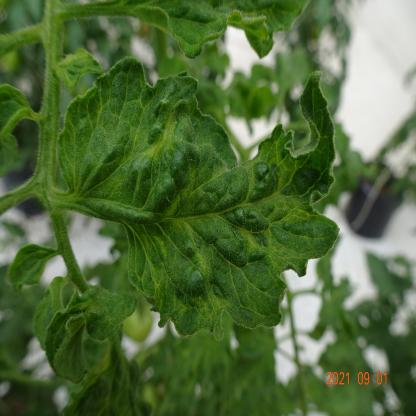T_L_R: (60, 59, 340, 339)
